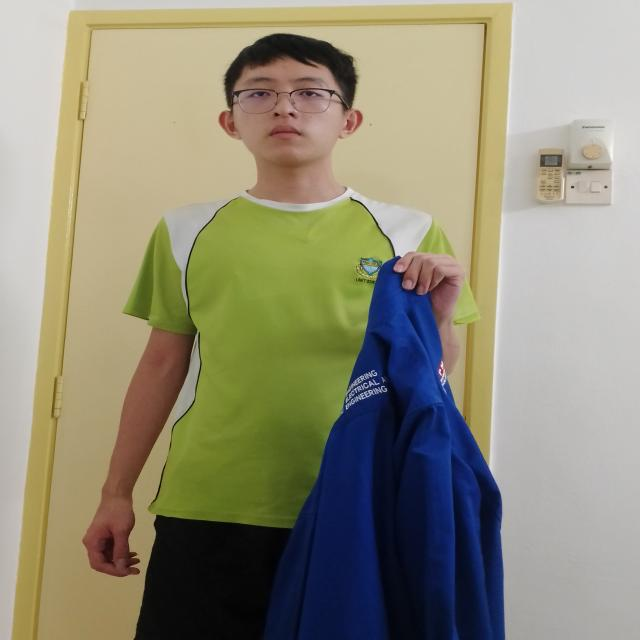person_without_labcoat: (86, 34, 501, 640)
